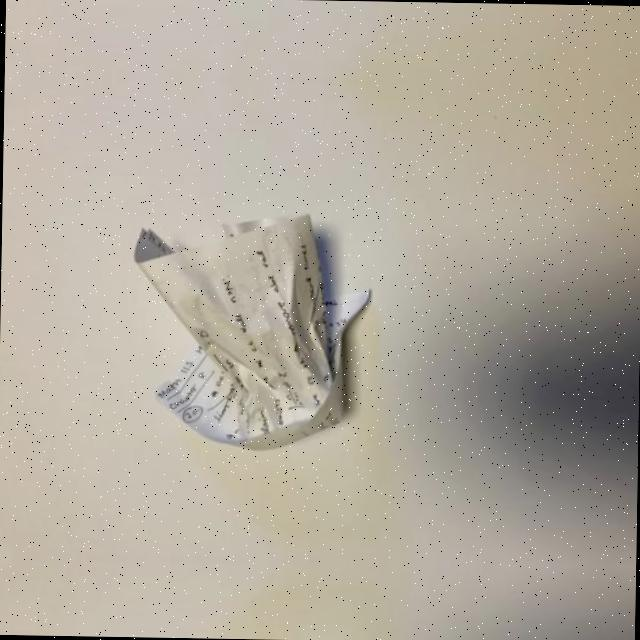paper: (102, 196, 430, 450)
